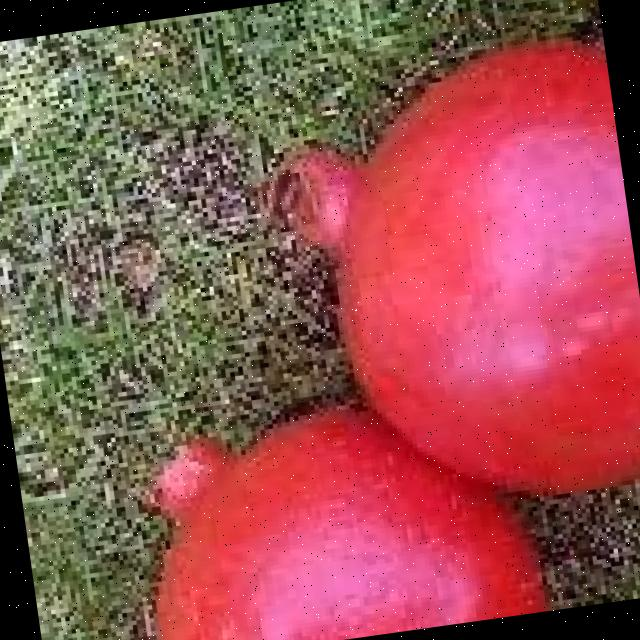Good_Lime-10-21 days: (66, 15, 640, 640)
Good_Pomegranate 50-60-days: (118, 371, 556, 640)
